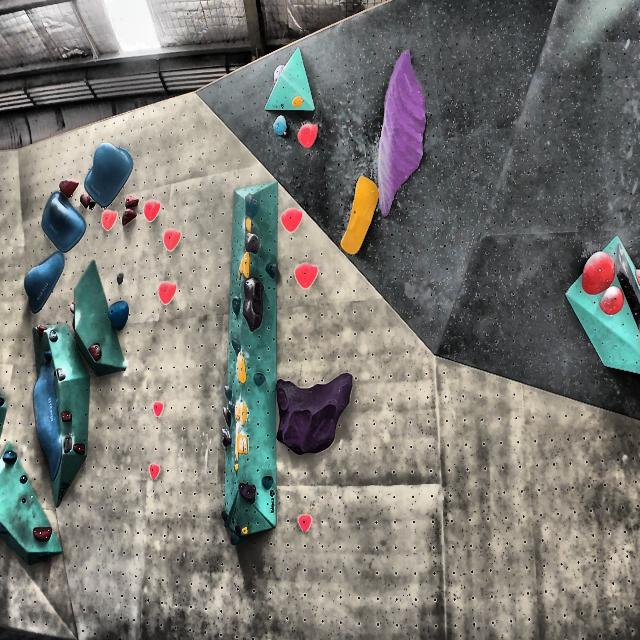Hold: (380, 47, 426, 223), (272, 372, 350, 460), (28, 369, 61, 484), (81, 144, 132, 207), (339, 173, 374, 258), (23, 250, 68, 314), (42, 194, 83, 250), (618, 238, 640, 331), (578, 247, 615, 297), (243, 277, 271, 334), (108, 298, 130, 334), (278, 208, 305, 236), (600, 290, 624, 318), (294, 263, 318, 289), (298, 120, 318, 150), (123, 190, 138, 227), (244, 194, 263, 220), (143, 197, 162, 223), (163, 229, 183, 253), (78, 193, 98, 217), (31, 524, 54, 542), (158, 284, 176, 306), (235, 352, 248, 382), (242, 234, 258, 257), (59, 178, 82, 194), (237, 481, 254, 501), (102, 211, 118, 232), (251, 368, 267, 388), (272, 112, 284, 138), (89, 341, 102, 364), (240, 252, 252, 276), (235, 402, 248, 424), (237, 433, 250, 455), (266, 261, 282, 278), (220, 429, 233, 449), (2, 447, 18, 463), (298, 512, 312, 530), (228, 534, 246, 548), (62, 432, 72, 457), (272, 64, 284, 84), (231, 298, 245, 315), (221, 384, 234, 402), (62, 410, 74, 428), (221, 407, 231, 428), (148, 464, 162, 479), (75, 445, 88, 461), (154, 400, 164, 420), (291, 95, 304, 110), (232, 337, 244, 352), (48, 328, 58, 344), (261, 474, 274, 486), (56, 366, 67, 380), (219, 505, 228, 522), (40, 351, 53, 362), (0, 525, 9, 540), (36, 325, 47, 337), (244, 221, 252, 234), (20, 477, 28, 484), (233, 464, 239, 472)
